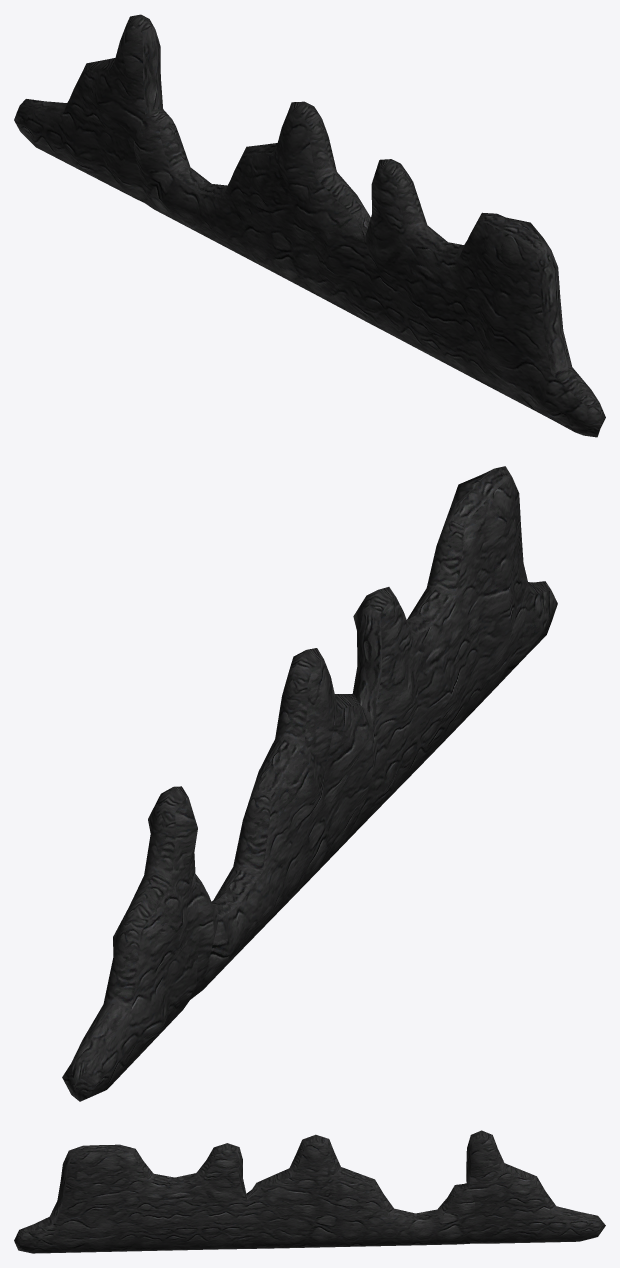
Rendered from BrickWallStraight12Shape.dae.
3 renders of one model, top to bottom at view 1: azimuth 30°, elevation 25°; view 2: azimuth 150°, elevation 25°; view 3: azimuth 270°, elevation 25°, orthographic. The views are drawn at different scales.
Parts seen in each view (by area): view 1: BrickWallStraight12; view 2: BrickWallStraight12; view 3: BrickWallStraight12.
Part boxes in pixels (x1=…): BrickWallStraight12: x1=14, y1=14, x2=605, y2=437; BrickWallStraight12: x1=62, y1=466, x2=557, y2=1101; BrickWallStraight12: x1=14, y1=1130, x2=605, y2=1253.
Size of the model in its own units: 7.64 by 12.1 by 54.2.
